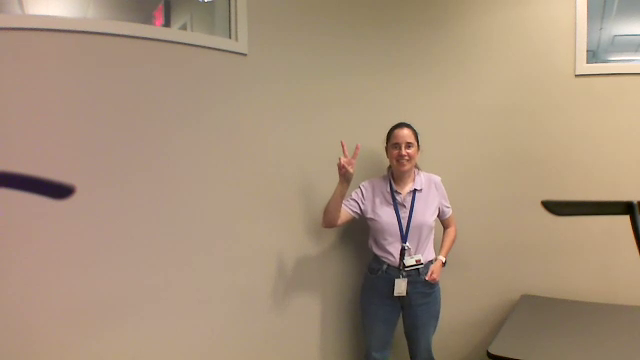peace: (334, 138, 363, 178)
